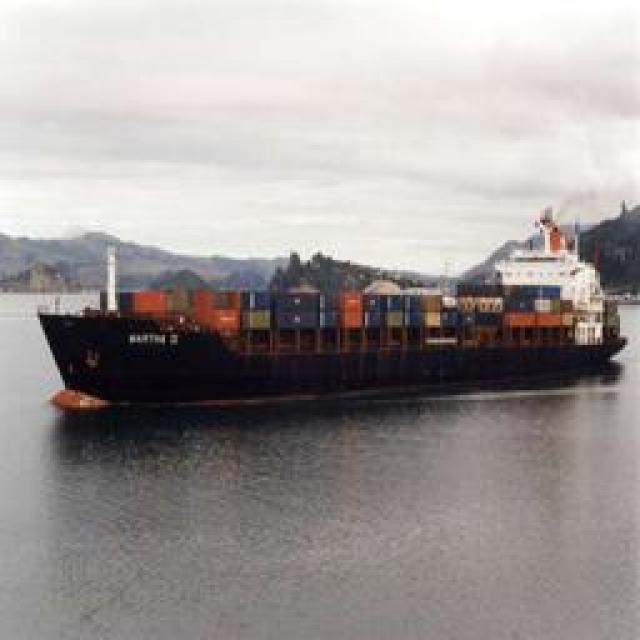ship2: (36, 207, 628, 408)
